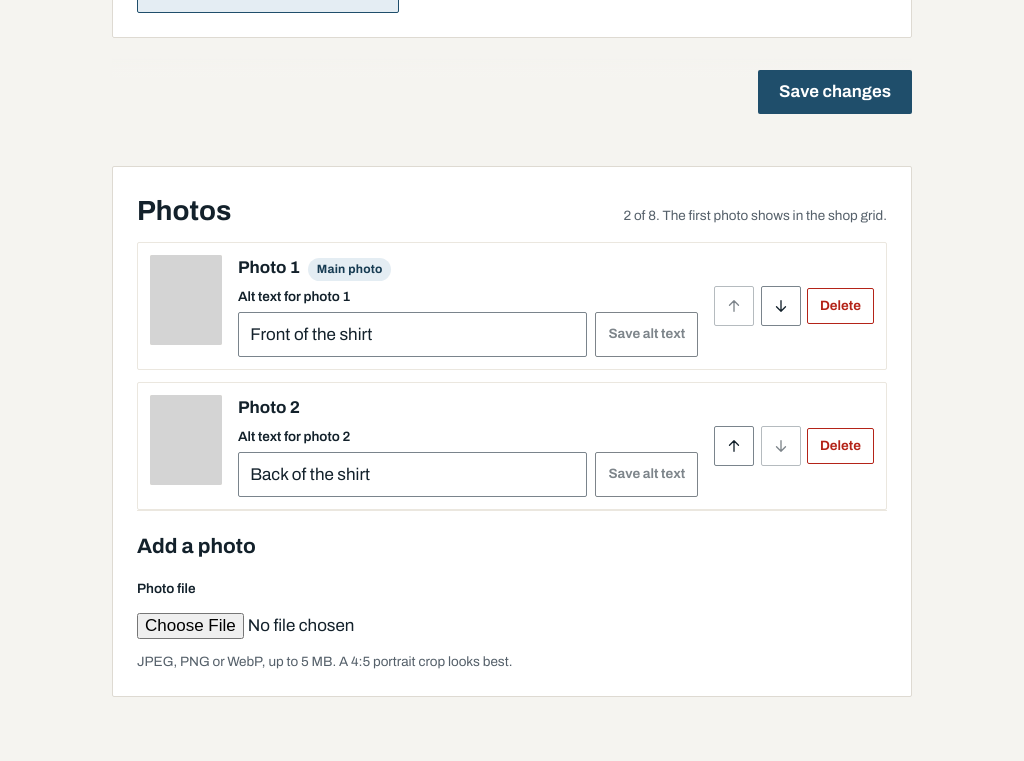
Scenario: image manager › reorders photos by patching sortOrder
(page scrolled)
Click the button named "Move photo 2 up".
click(734, 446)  # box [714, 426, 754, 466]
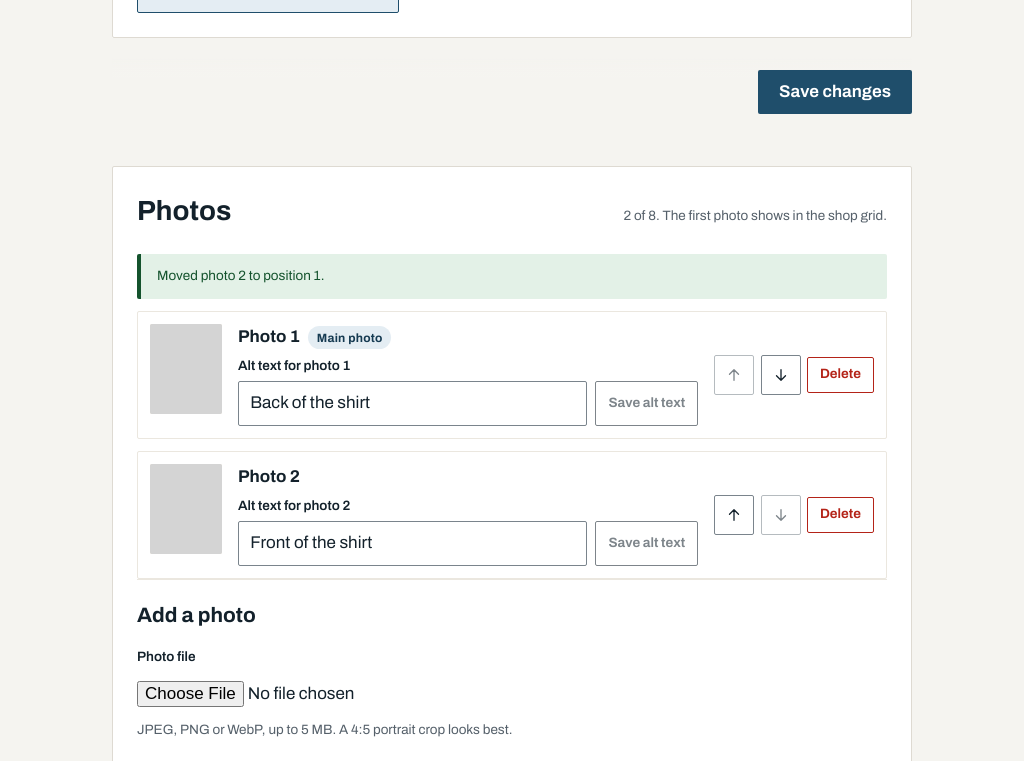
Now the text "Moved photo 2 to position 1." is shown, box [137, 254, 887, 299]
